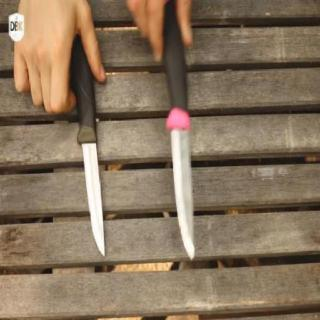knife: (48, 60, 111, 271), (148, 16, 198, 270)
